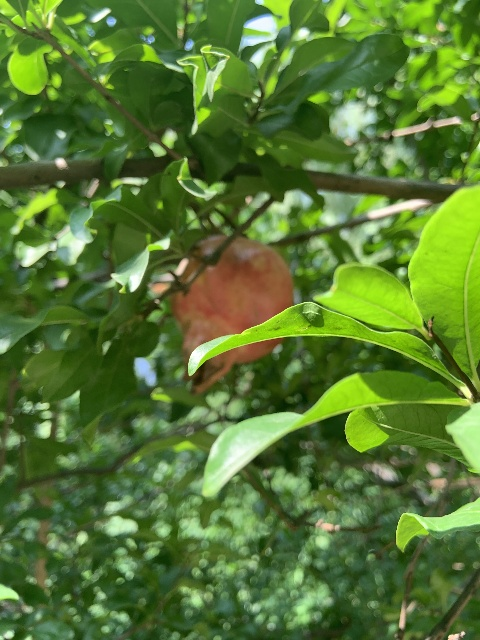ripe: (170, 236, 295, 396)
